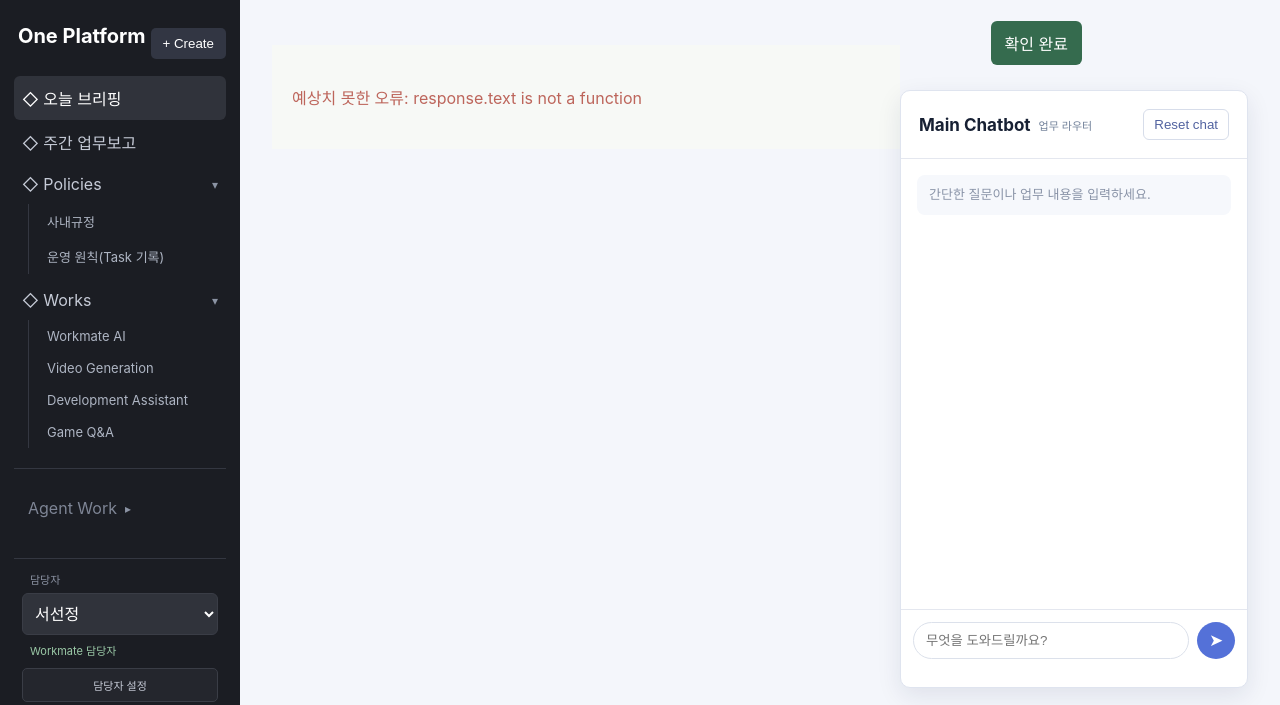
Test: App - Video Generation sidebar entry › renders VideoAgentPage instead of the generic chat panel when Video Generation is selected
Click the button "Video Generation" at (132, 368), box [39,352,226,384]
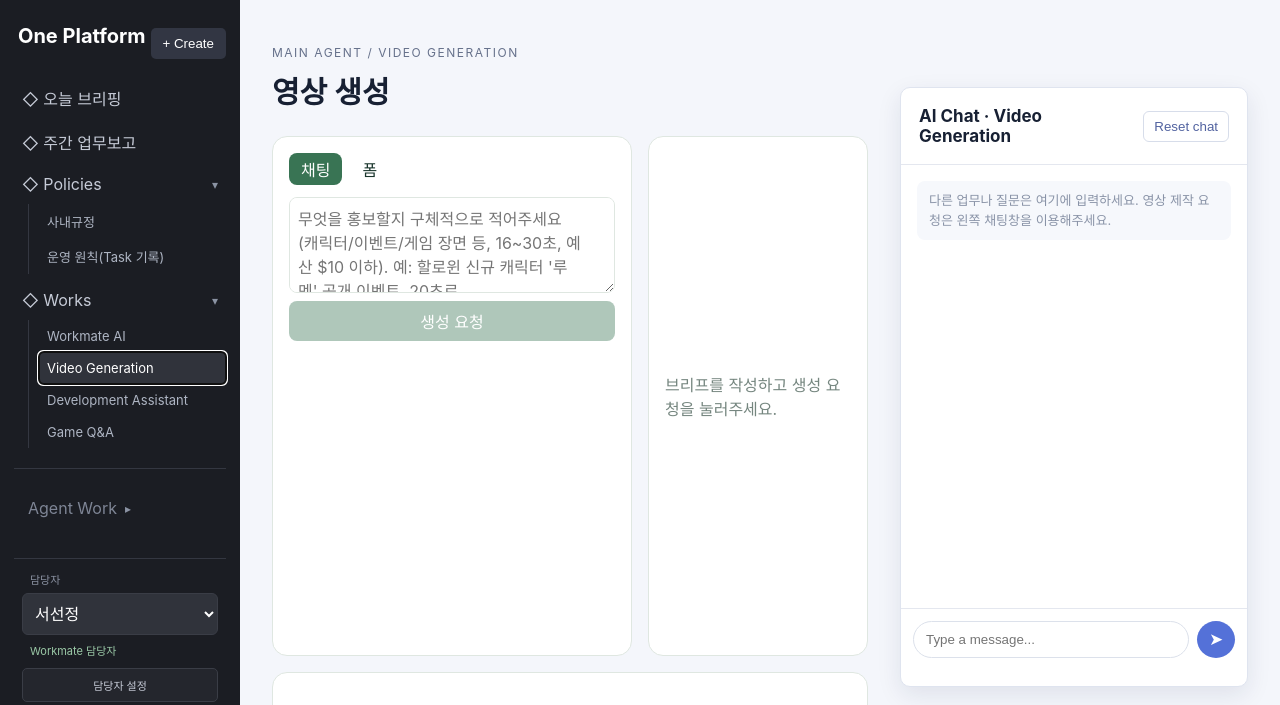
Expected: the text box named "영상 브리프" is shown, [289,197,615,293]
Expected: the field with placeholder "Type a message..." is shown, [913,621,1189,658]
